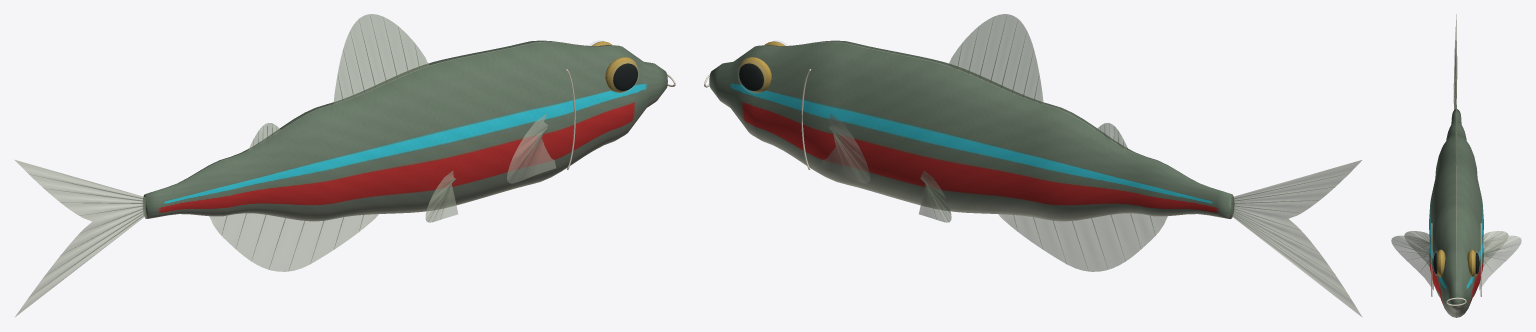
Rendered from cardinal-mobile.glb.
3 renders of one model, left to right at view 1: azimuth 30°, elevation 25°; view 2: azimuth 150°, elevation 25°; view 3: azimuth 270°, elevation 25°, orthographic. The views are drawn at different scales.
Visible parts, largest first — view 1: skin, tail, anal, dorsal, dorsal-ray, pectoral-left, pelvic-left, eye-pupil--1, eye-iris--1; view 2: skin, tail, anal, dorsal, dorsal-ray, pectoral-left, pelvic-left, eye-pupil--1, eye-iris--1; view 3: skin, pectoral-left, pelvic-left, eye-iris--1, operculum, dorsal-ray, tail, eye-pupil--1, dorsal.
Part boxes in pixels (<box>): skin: <box>143,40,667,221</box>; tail: <box>15,160,145,316</box>; anal: <box>209,213,378,271</box>; dorsal: <box>248,14,428,150</box>; dorsal-ray: <box>34,16,547,293</box>; pectoral-left: <box>507,113,555,183</box>; pelvic-left: <box>425,171,457,222</box>; eye-pupil--1: <box>613,63,637,90</box>; eye-iris--1: <box>592,41,638,92</box>; skin: <box>709,40,1234,221</box>; tail: <box>1231,160,1361,316</box>; anal: <box>998,213,1167,271</box>; dorsal: <box>948,14,1128,149</box>; dorsal-ray: <box>829,14,1344,289</box>; pectoral-left: <box>821,114,869,183</box>; pelvic-left: <box>919,170,951,222</box>; eye-pupil--1: <box>739,63,763,90</box>; eye-iris--1: <box>738,41,784,92</box>; skin: <box>1429,109,1483,317</box>; pectoral-left: <box>1391,235,1521,290</box>; pelvic-left: <box>1404,231,1508,265</box>; eye-iris--1: <box>1437,249,1475,276</box>; operculum: <box>1431,223,1481,305</box>; dorsal-ray: <box>1398,55,1516,271</box>; tail: <box>1453,14,1457,109</box>; eye-pupil--1: <box>1433,253,1479,273</box>; dorsal: <box>1455,95,1457,165</box>.
Bounding box in the file's own units: 0.5972 × 0.2077 × 0.1425.
11 materials, 1 textured.
